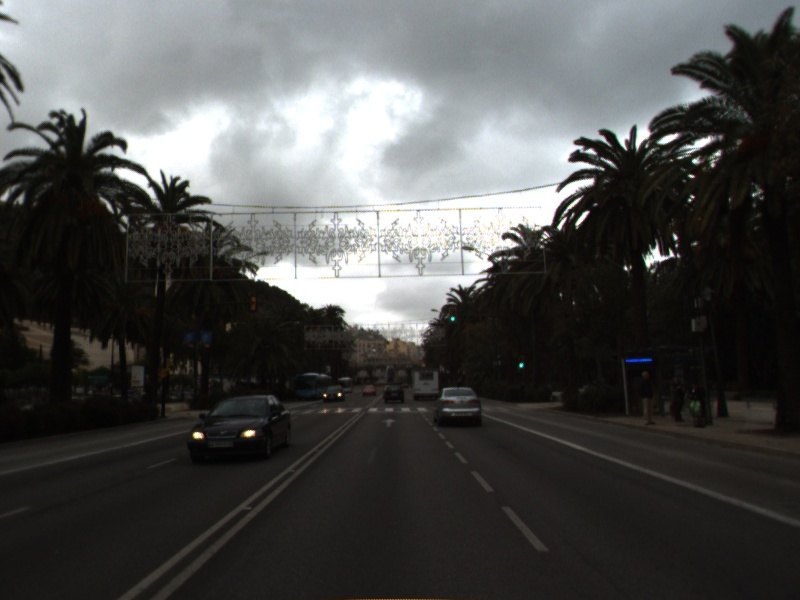STRAIGHT: (379, 416, 399, 430)
